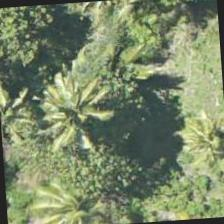Kelapa_Sawit: (23, 62, 119, 158), (27, 156, 123, 223), (167, 101, 223, 196), (0, 63, 55, 157)
